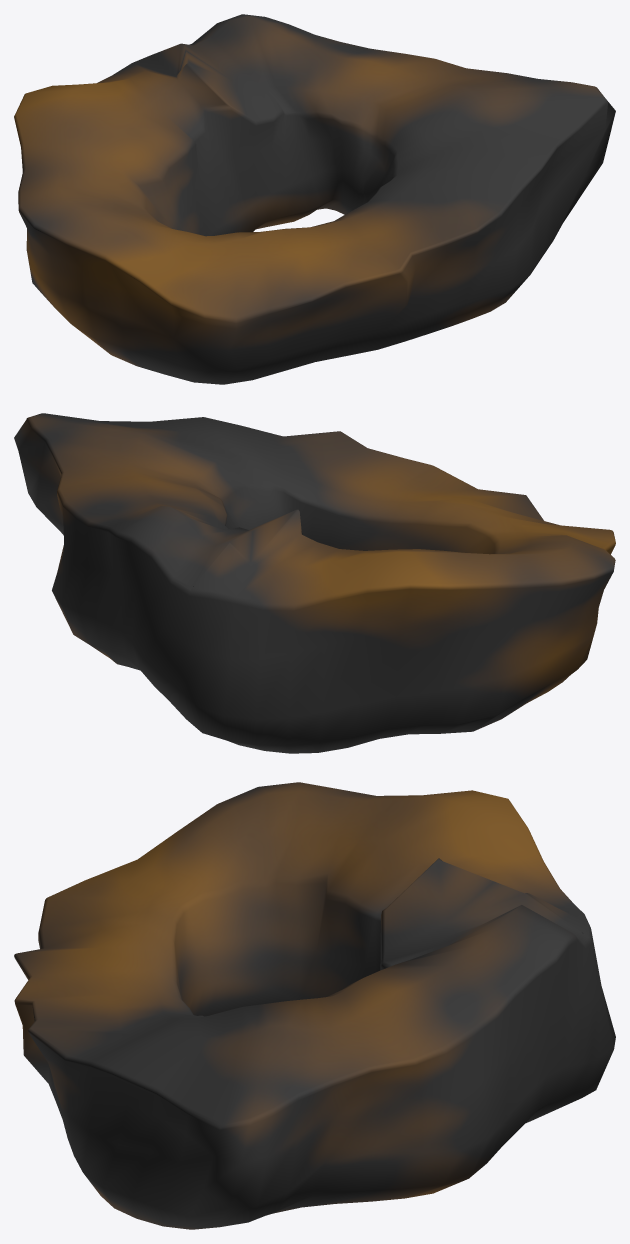
Rendered from Batu.fbx.
3 views of the same model, one above another, from view 1: azimuth 30°, elevation 25°; view 2: azimuth 150°, elevation 25°; view 3: azimuth 270°, elevation 25° (orthographic). The views are drawn at different scales.
Visible parts, largest first — view 1: Torus; view 2: Torus; view 3: Torus.
Boxes of the visible parts, box(x1,y1,x2,y2) form: Torus: box(14, 14, 615, 384); Torus: box(14, 413, 615, 753); Torus: box(14, 782, 615, 1229).
Size of the model in its own units: 270 by 91.2 by 196.
Materials: 1 (1 with a texture image).
